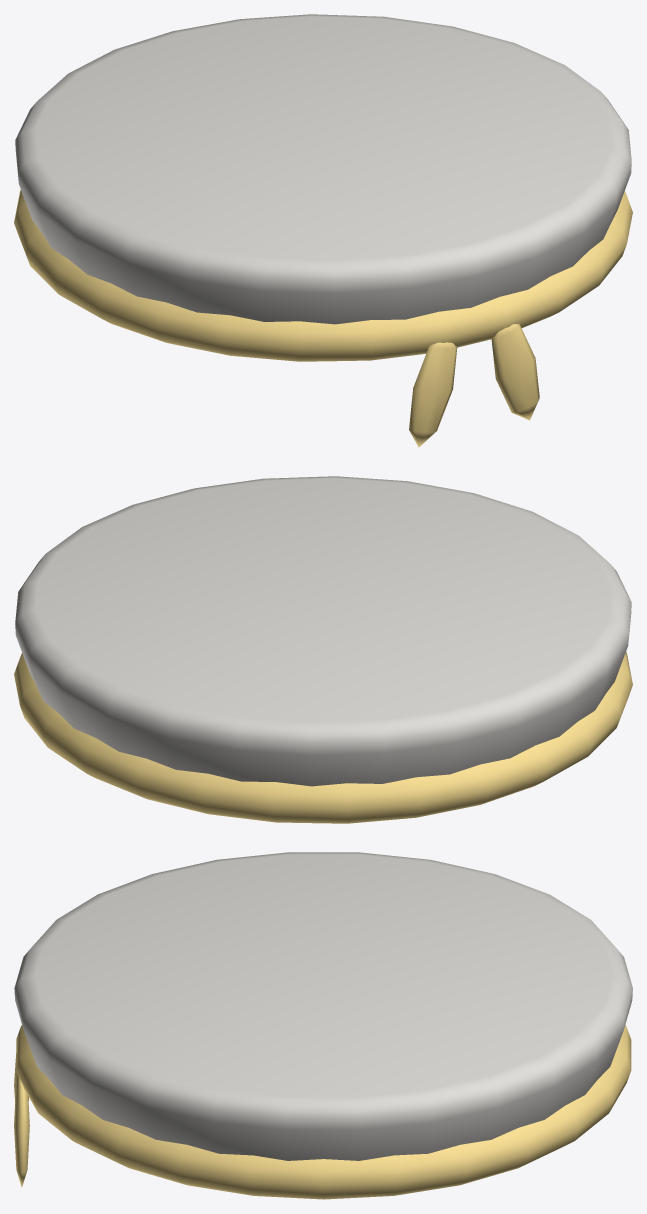
Rendered from Acc_Sailor.fbx.
3 renders of one model, top to bottom at view 1: azimuth 30°, elevation 25°; view 2: azimuth 150°, elevation 25°; view 3: azimuth 270°, elevation 25°, orthographic.
Parts seen in each view (by area): view 1: Sailor_Hat, Sailor_Band, Sailor_Ribbon.001, Sailor_Ribbon; view 2: Sailor_Hat, Sailor_Band; view 3: Sailor_Hat, Sailor_Band, Sailor_Ribbon.
Part boxes in pixels (x1,y1,x2,y2): Sailor_Hat: [15, 14, 631, 324]; Sailor_Band: [14, 189, 632, 361]; Sailor_Ribbon.001: [409, 342, 457, 447]; Sailor_Ribbon: [491, 323, 539, 420]; Sailor_Hat: [15, 476, 631, 786]; Sailor_Band: [14, 651, 632, 823]; Sailor_Hat: [14, 852, 632, 1160]; Sailor_Band: [16, 1025, 631, 1199]; Sailor_Ribbon: [14, 1076, 29, 1187].
Bounding box in the file's own units: 78 × 25.73 × 77.94.
